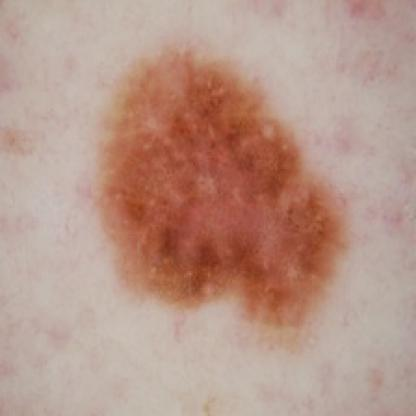malignant: (96, 52, 353, 316)
